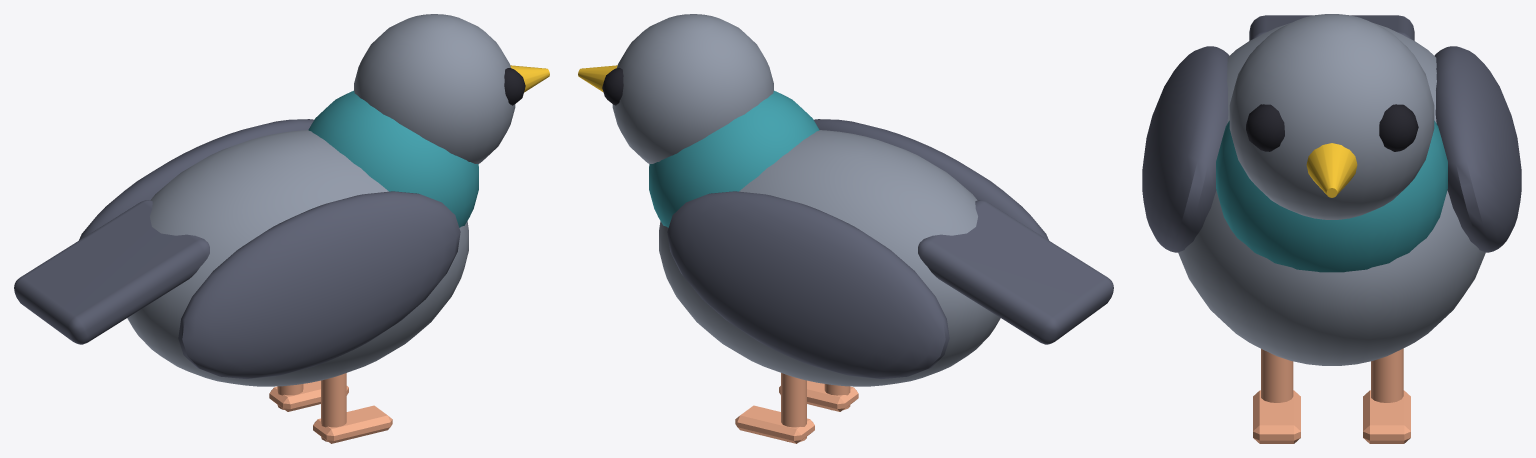
File: pigeon.glb
3 views of the same model, side by side, from view 1: azimuth 30°, elevation 25°; view 2: azimuth 150°, elevation 25°; view 3: azimuth 270°, elevation 25° (orthographic). The views are drawn at different scales.
Parts seen in each view (by area): view 1: pigeon; view 2: pigeon; view 3: pigeon.
Boxes of the visible parts, left/top/right/bottom form: pigeon: left=14, top=14, right=549, bottom=443; pigeon: left=578, top=14, right=1113, bottom=443; pigeon: left=1142, top=14, right=1521, bottom=443.
Bounding box in the file's own units: 0.5369 × 0.375 × 0.2757.
1 material, 1 textured.
